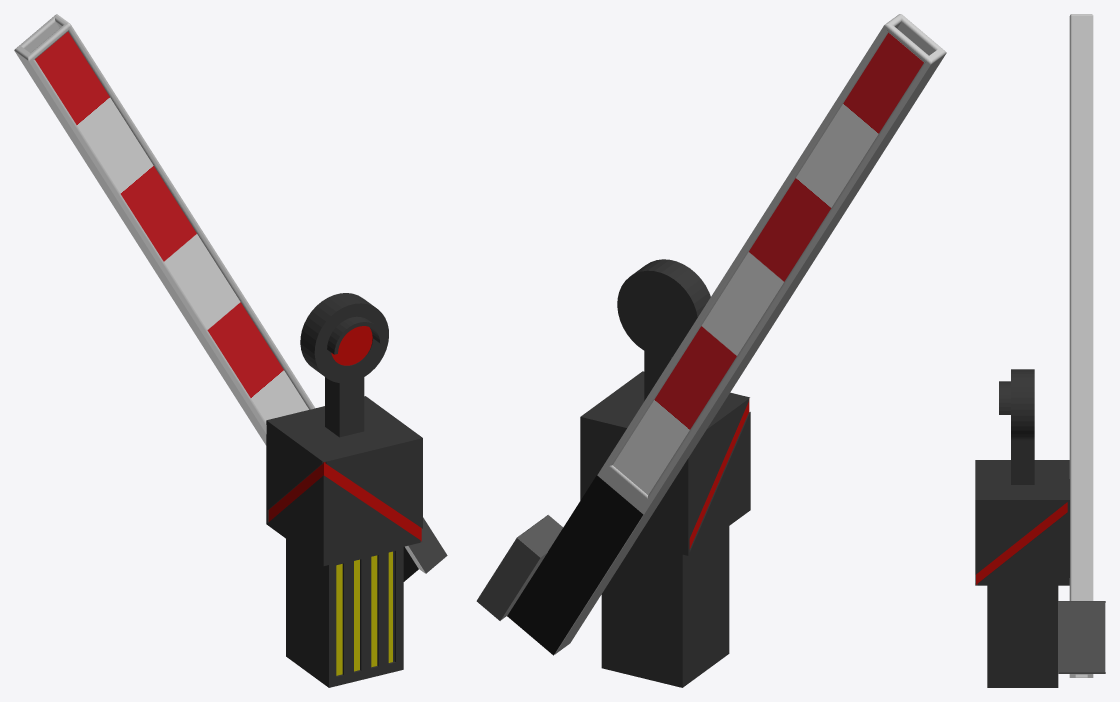
Rendered from barriere_passage_a_niveau_assemblee.obj.
3 views of the same model, side by side, from view 1: azimuth 30°, elevation 25°; view 2: azimuth 150°, elevation 25°; view 3: azimuth 270°, elevation 25° (orthographic). The views are drawn at different scales.
Visible parts, largest first — view 1: socle_barriere_passage_a_niveau, BarrierePlastiqueAvant, barriere_passage_a_niveau, BandeReflechissanteJaune, BandeReflechissanteRougeAvant, LumiereStop, PoidsAvant, BandeReflechissanteRougeDroite; view 2: socle_barriere_passage_a_niveau, BarrierePlastiqueArriere, barriere_passage_a_niveau, ContrepoidsArriere, PoidsArriere.001, PoidsDroit, BandeReflechissanteRougeDroite; view 3: socle_barriere_passage_a_niveau, barriere_passage_a_niveau, PoidsDessus, BandeReflechissanteRougeGauche.
Part boxes in pixels (x1,y1,x2,y2): socle_barriere_passage_a_niveau: (266,293,422,687); BarrierePlastiqueAvant: (35,32,308,421); barriere_passage_a_niveau: (14,14,425,573); BandeReflechissanteJaune: (336,551,392,675); BandeReflechissanteRougeAvant: (324,462,421,541); LumiereStop: (331,326,372,365); PoidsAvant: (408,517,447,573); BandeReflechissanteRougeDroite: (268,462,323,521); socle_barriere_passage_a_niveau: (580,259,750,687); BarrierePlastiqueArriere: (613,32,923,494); barriere_passage_a_niveau: (478,14,946,654); ContrepoidsArriere: (507,475,643,655); PoidsArriere.001: (477,538,540,620); PoidsDroit: (517,515,563,557); BandeReflechissanteRougeDroite: (689,401,748,548); socle_barriere_passage_a_niveau: (975,369,1069,687); barriere_passage_a_niveau: (1058,14,1093,677); PoidsDessus: (1058,601,1105,672); BandeReflechissanteRougeGauche: (976,502,1067,584).
Bounding box in the file's own units: 166 × 261 × 54.98.
